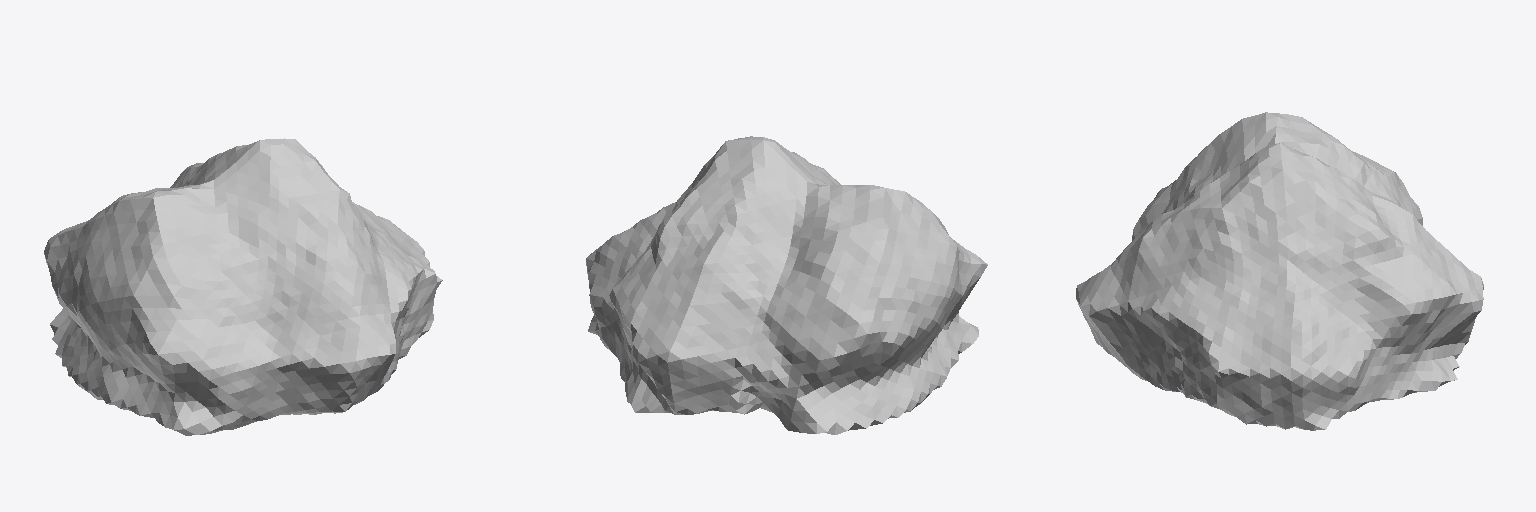
The model's file is Rock5.obj.
3 renders of one model, left to right at view 1: azimuth 30°, elevation 25°; view 2: azimuth 150°, elevation 25°; view 3: azimuth 270°, elevation 25°, orthographic.
Visible parts, largest first — view 1: default; view 2: default; view 3: default.
Part boxes in pixels (x1,y1,x2,y2): default: (44, 138, 442, 435); default: (586, 136, 987, 434); default: (1076, 112, 1483, 430).
Size of the model in its own units: 2.17 by 1.39 by 2.25.